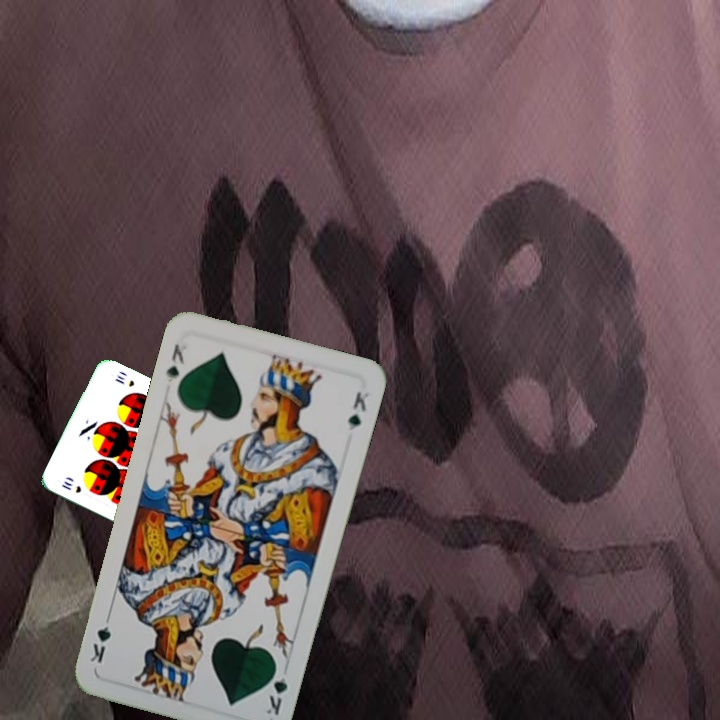GK: (262, 660, 290, 718), (161, 340, 187, 385)
S10: (57, 477, 84, 496)
